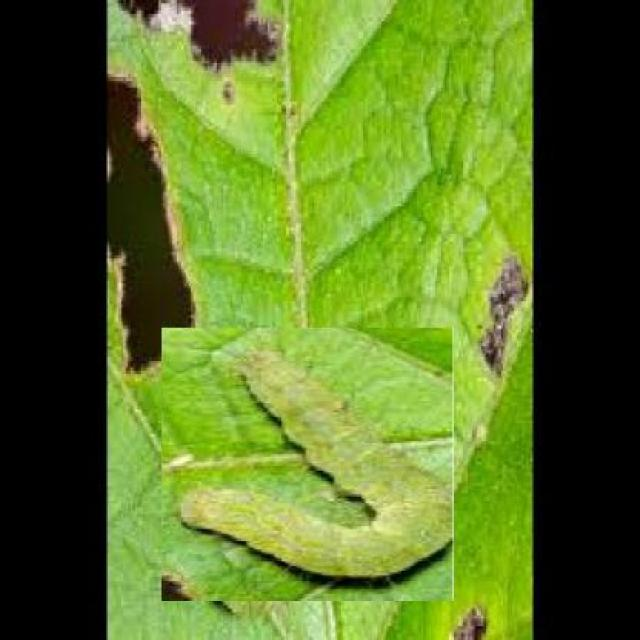Plaga: (166, 324, 449, 609)
